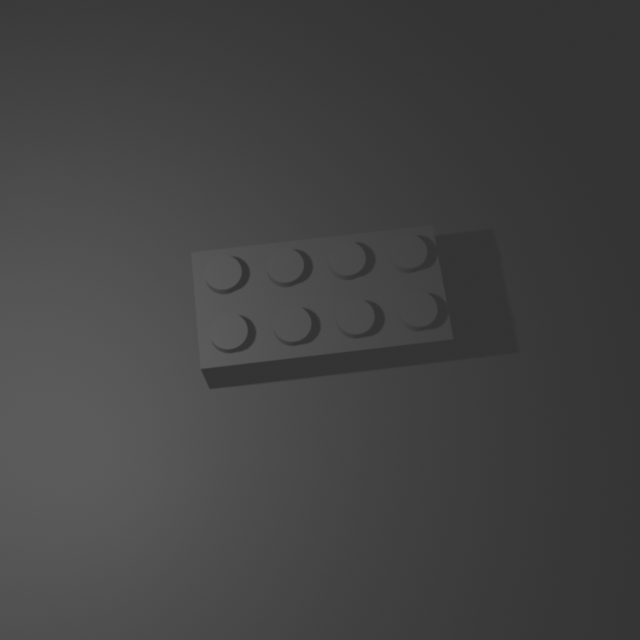lego_2x4: (189, 220, 455, 389)
